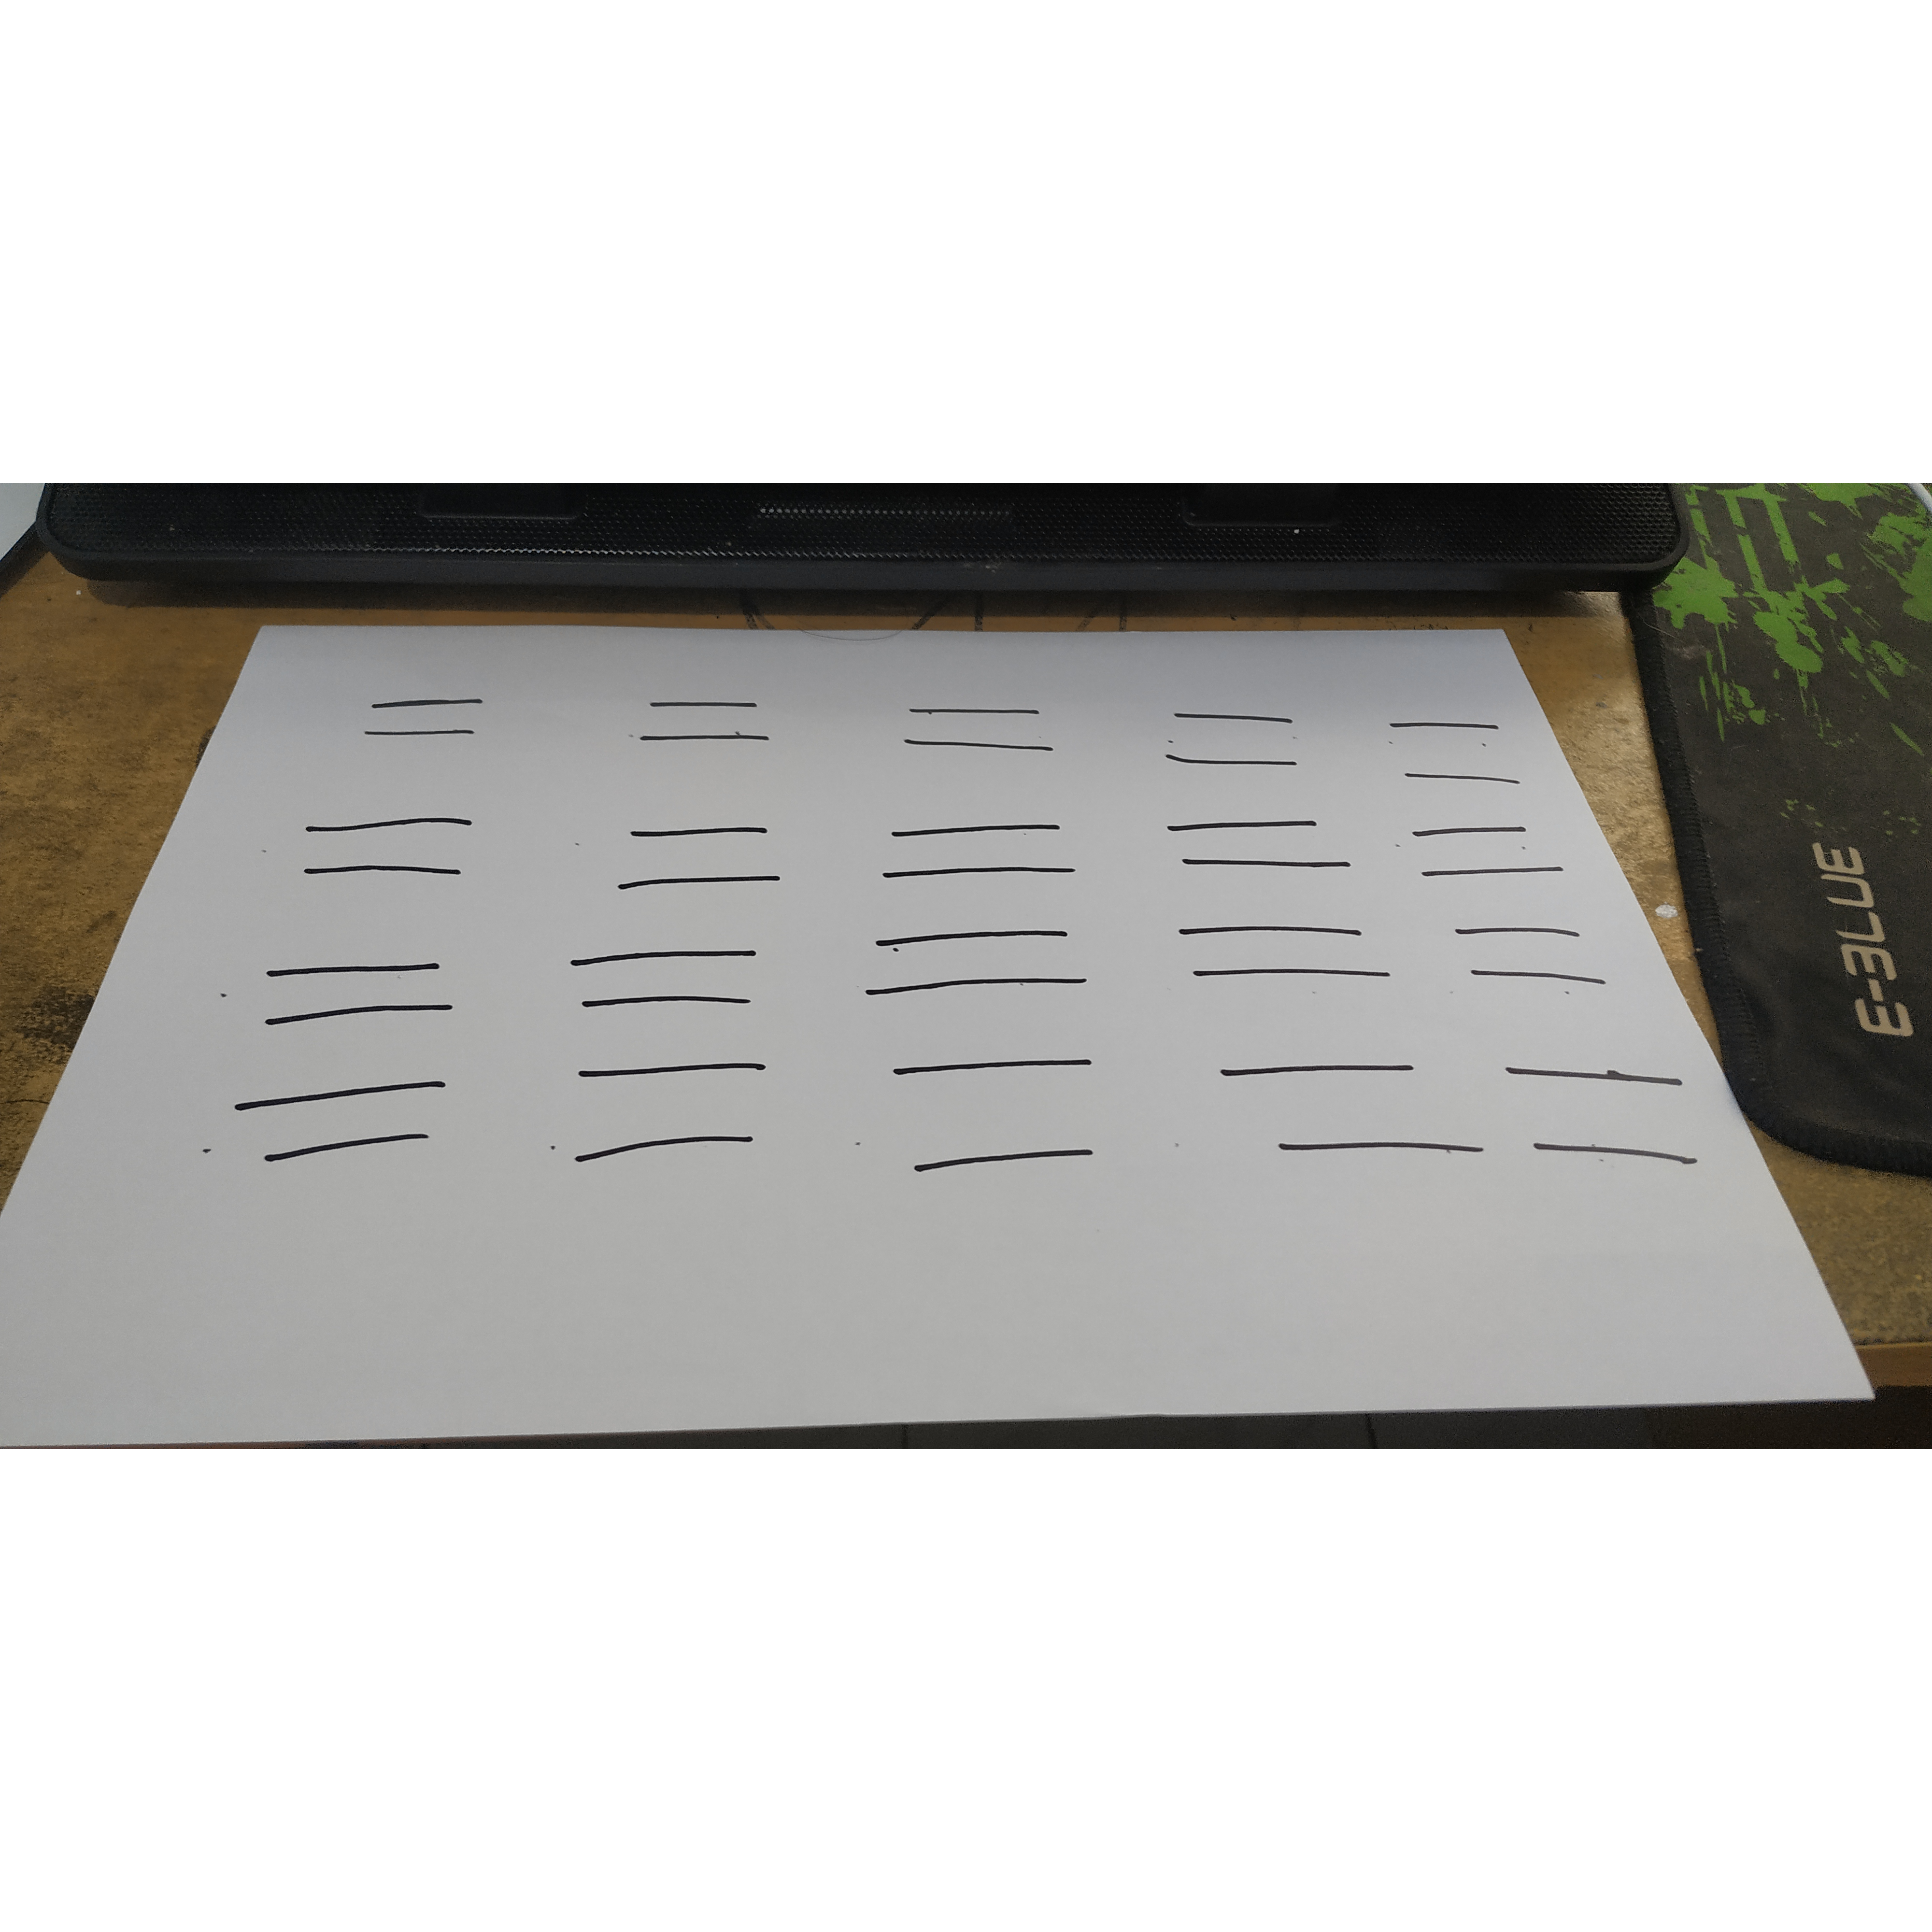equal: (1204, 1041, 1508, 1184), (866, 1039, 1133, 1191), (557, 1046, 805, 1182), (1505, 1037, 1710, 1180), (841, 922, 1137, 1010), (207, 1080, 482, 1170), (862, 804, 1114, 893), (251, 943, 480, 1037), (1150, 800, 1366, 896), (874, 672, 1072, 775), (562, 937, 788, 1025), (1166, 920, 1408, 1002), (280, 802, 500, 890), (1143, 678, 1330, 777), (1378, 701, 1542, 806), (603, 821, 813, 901), (1399, 806, 1580, 899), (608, 676, 790, 760), (1446, 918, 1622, 997), (355, 676, 497, 758)
